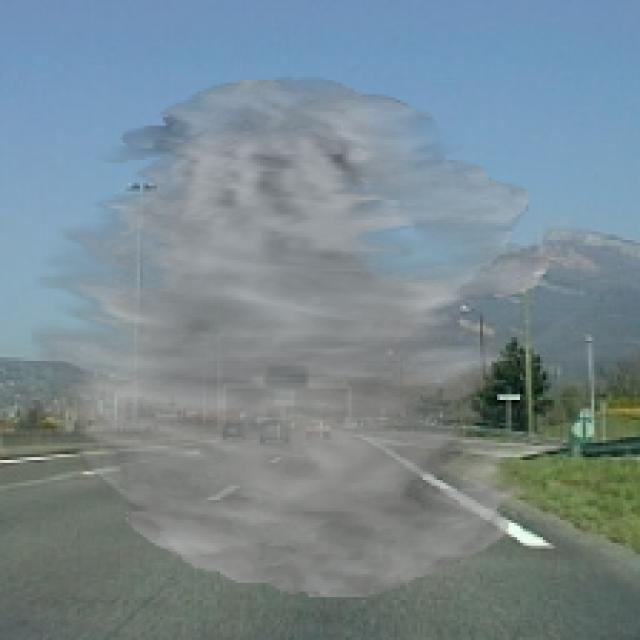Smoke: (31, 77, 552, 597)
